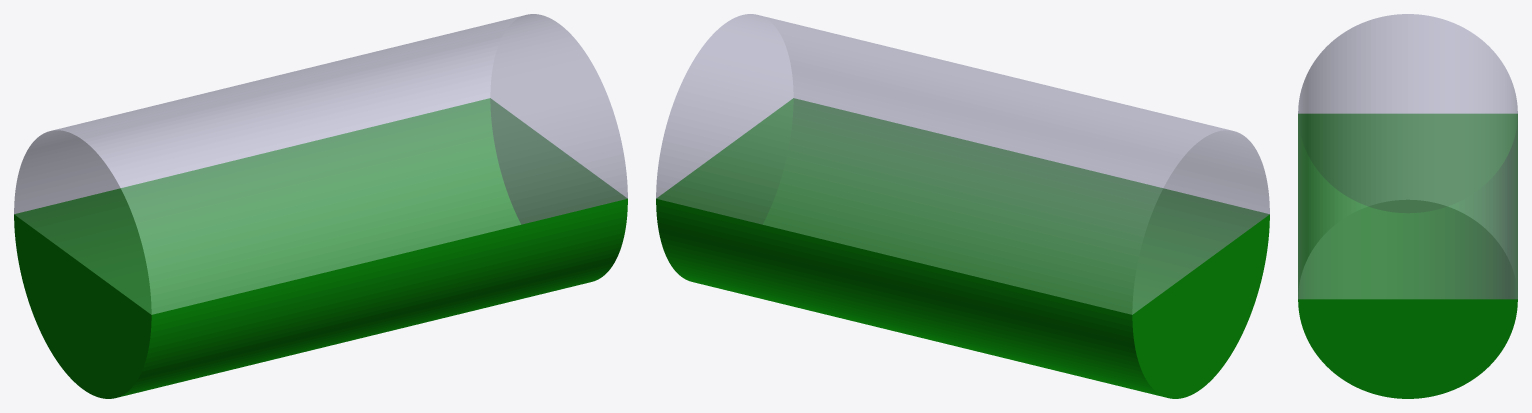
The model's file is Бочка.obj.
3 renders of one model, left to right at view 1: azimuth 30°, elevation 25°; view 2: azimuth 150°, elevation 25°; view 3: azimuth 270°, elevation 25°, orthographic. The views are drawn at different scales.
Size of the model in its own units: 20 by 10 by 10.
